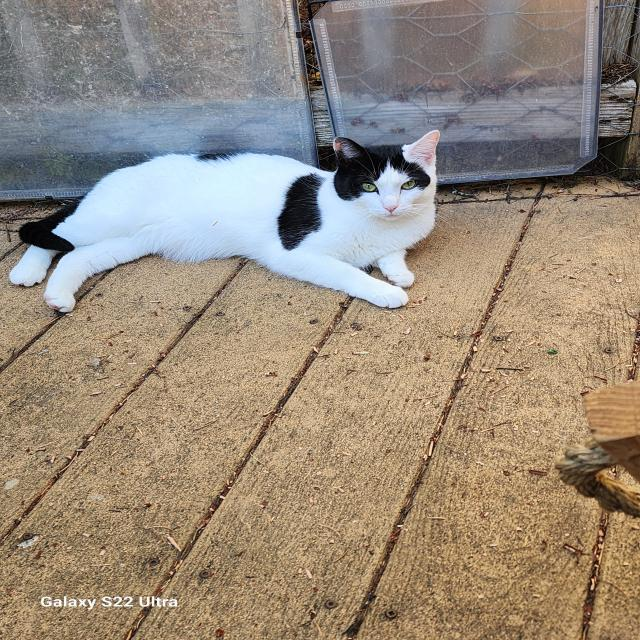american_shorthair_cat: (312, 128, 457, 229)
